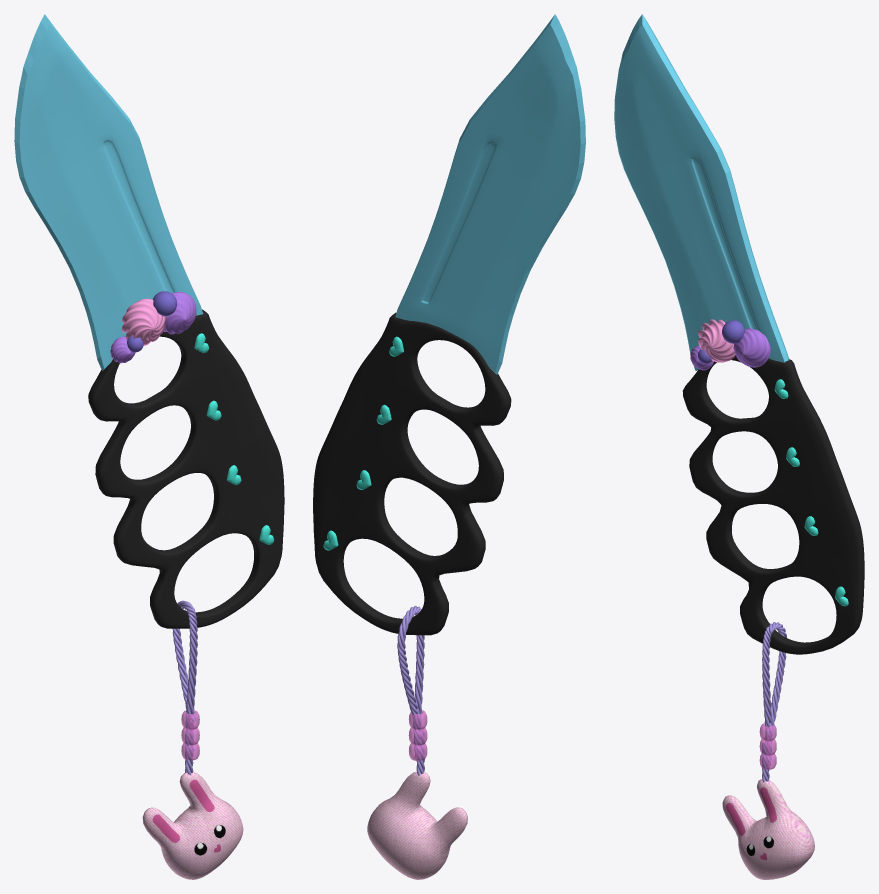
Rendered from knife.glb.glb.
3 renders of one model, left to right at view 1: azimuth 30°, elevation 25°; view 2: azimuth 150°, elevation 25°; view 3: azimuth 330°, elevation 25°, orthographic. The views are drawn at different scales.
Visible parts, largest first — view 1: Navaja_Navaja_0, Mango_Mango_0, Conejito_Conejito_0, Cuerdita_Cuerdita_0, Betun_01_Betun_01_0, Betunes_Betunes_0, Bolitas_Bolitas_0, Corazones_Corazones_0, Perlas_Perlas_0; view 2: Navaja_Navaja_0, Mango_Mango_0, Conejito_Conejito_0, Cuerdita_Cuerdita_0, Corazones_Corazones_0, Bolitas_Bolitas_0; view 3: Navaja_Navaja_0, Mango_Mango_0, Conejito_Conejito_0, Cuerdita_Cuerdita_0, Betunes_Betunes_0, Betun_01_Betun_01_0, Corazones_Corazones_0, Bolitas_Bolitas_0, Perlas_Perlas_0.
Part boxes in pixels (bbox=[...]): Navaja_Navaja_0: bbox=[14, 14, 203, 370]; Mango_Mango_0: bbox=[88, 309, 284, 628]; Conejito_Conejito_0: bbox=[142, 772, 243, 879]; Cuerdita_Cuerdita_0: bbox=[172, 600, 197, 775]; Betun_01_Betun_01_0: bbox=[121, 298, 166, 345]; Betunes_Betunes_0: bbox=[110, 292, 196, 363]; Bolitas_Bolitas_0: bbox=[181, 710, 199, 760]; Corazones_Corazones_0: bbox=[194, 333, 274, 544]; Perlas_Perlas_0: bbox=[127, 291, 176, 352]; Navaja_Navaja_0: bbox=[395, 14, 585, 374]; Mango_Mango_0: bbox=[313, 312, 511, 635]; Conejito_Conejito_0: bbox=[367, 771, 467, 879]; Cuerdita_Cuerdita_0: bbox=[397, 605, 424, 775]; Corazones_Corazones_0: bbox=[323, 336, 403, 550]; Bolitas_Bolitas_0: bbox=[408, 710, 427, 760]; Navaja_Navaja_0: bbox=[614, 14, 789, 370]; Mango_Mango_0: bbox=[682, 355, 864, 654]; Conejito_Conejito_0: bbox=[722, 779, 814, 879]; Cuerdita_Cuerdita_0: bbox=[762, 622, 786, 782]; Betunes_Betunes_0: bbox=[690, 328, 770, 370]; Betun_01_Betun_01_0: bbox=[698, 319, 735, 362]; Corazones_Corazones_0: bbox=[774, 379, 848, 606]; Bolitas_Bolitas_0: bbox=[759, 723, 776, 769]; Perlas_Perlas_0: bbox=[698, 320, 744, 363].
Size of the model in its own units: 41.28 by 131 by 8.96.
9 materials, 8 textured.
